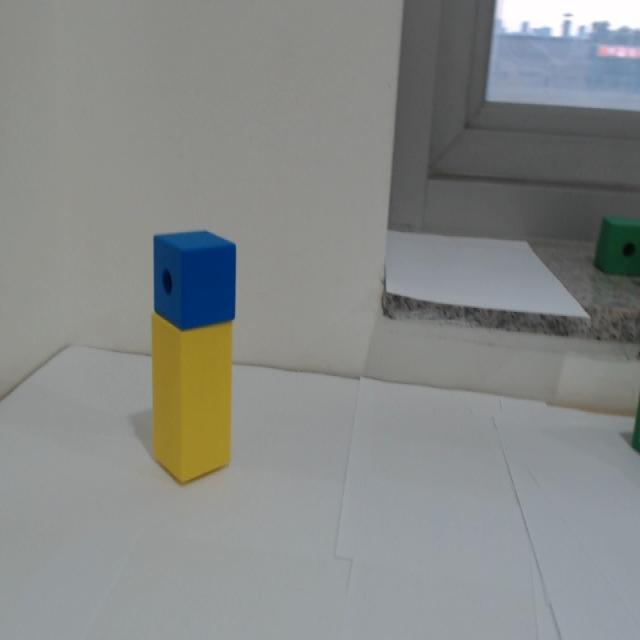cube: (150, 227, 238, 334)
